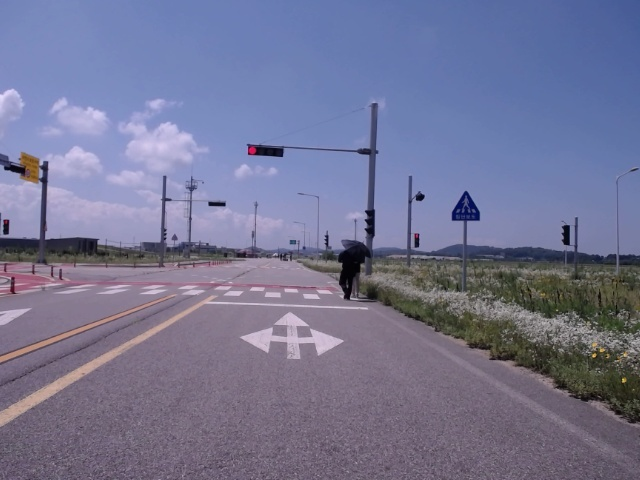red_4: (248, 146, 283, 157)
